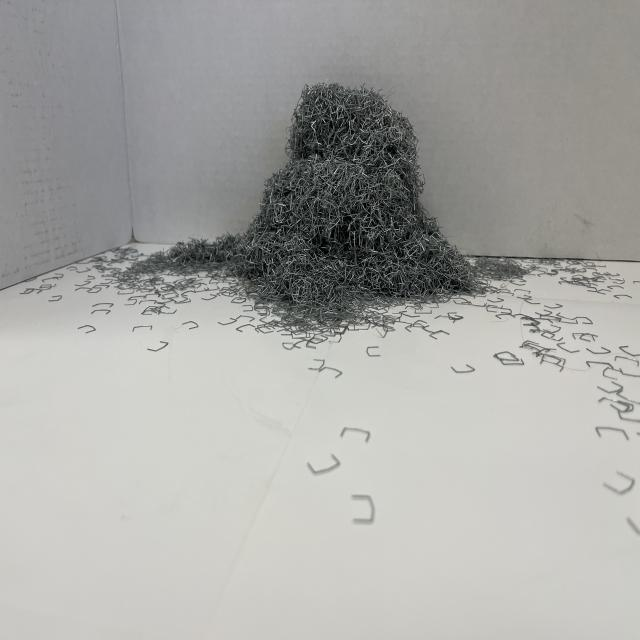staples: (131, 79, 484, 314)
